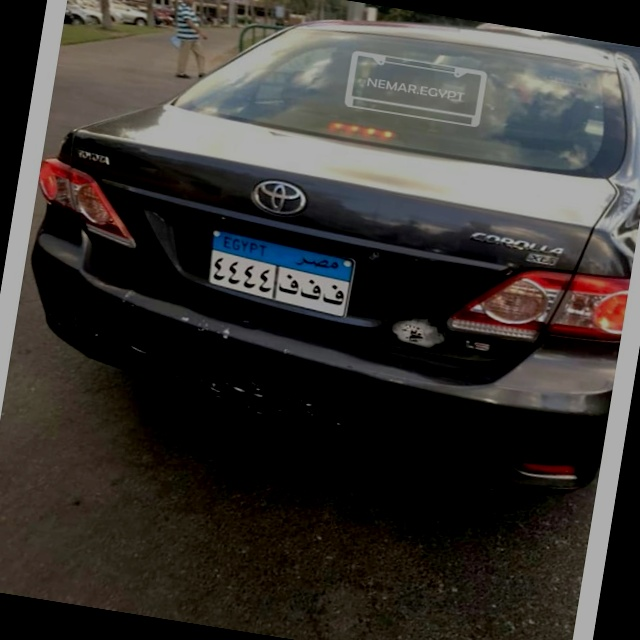License Plate: (199, 224, 362, 322)
